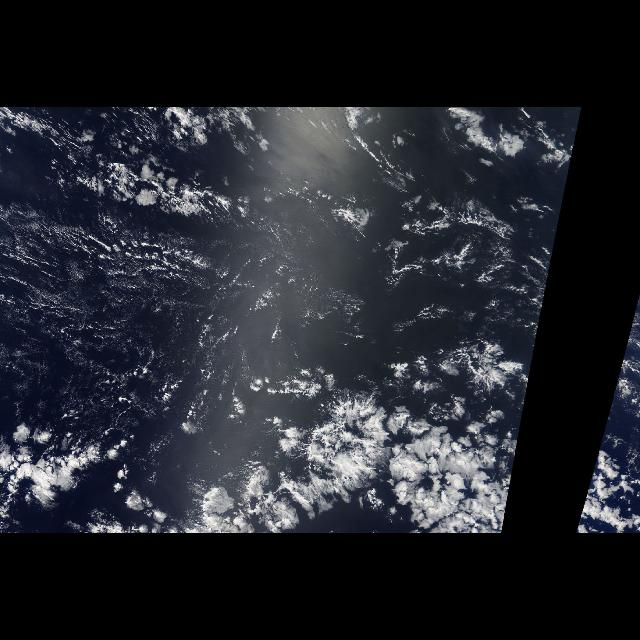Flower: (369, 379, 527, 533)
Sugar: (1, 204, 322, 428)
